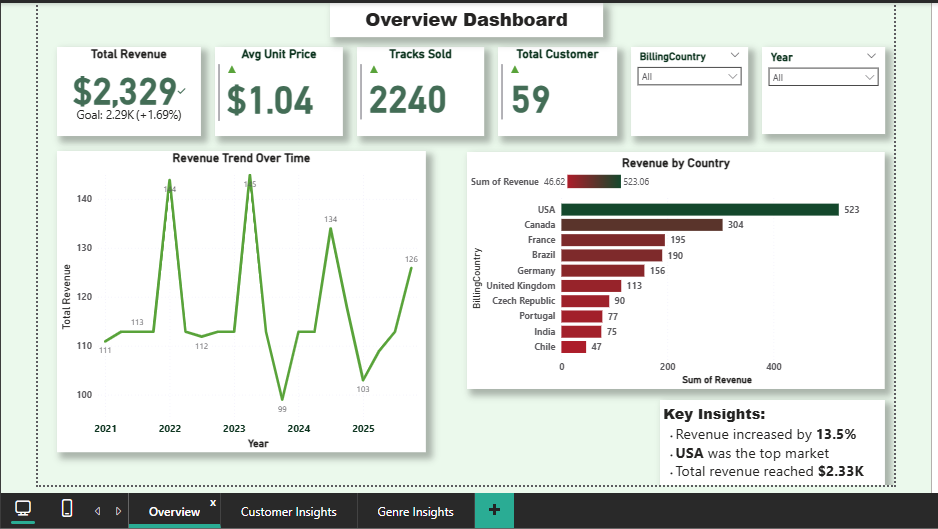

This screenshot's page, from the dashboard's own definition file:
{"tool":"powerbi","page":{"name":"Overview","canvas":[1280,720],"ordinal":0},"visuals":[{"type":"clusteredBarChart","title":"Revenue by Country","fields":{"Category":["RevenueByCountry1.BillingCountry"],"Y":["Sum(RevenueByCountry1.Revenue)"]},"box":[640.8,222.6,624.4,354],"z":0},{"type":"slicer","fields":{"Values":["RevenueByCountry1.BillingCountry"]},"box":[885.8,65.7,174.8,132.9],"z":1000},{"type":"slicer","fields":{"Values":["Invoice.InvoiceDate.Variation.Date Hierarchy.Year"]},"box":[1081.5,65.7,183.7,130],"z":2000},{"type":"kpi","title":"Total Revenue","fields":{"Indicator":["Customer.Total Revenue"],"Goal":["Customer.Previous Revenue"],"TrendLine":["InvoiceLine.Quantity"]},"box":[28.4,65.7,215.1,132.9],"z":3000},{"type":"multiRowCard","title":"Avg Unit Price","fields":{"Values":["Customer.Avg Unit Price","Customer.KPI Indicator"]},"box":[264.4,65.7,191.2,132.9],"z":4000},{"type":"multiRowCard","title":"Tracks Sold","fields":{"Values":["Customer.Tracks Sold","Customer.KPI Indicator"]},"box":[476.5,65.7,189.7,132.9],"z":5000},{"type":"multiRowCard","title":"Total Customer","fields":{"Values":["Customer.Total Customers","Customer.KPI Indicator"]},"box":[687.1,65.7,177.8,132.9],"z":6000},{"type":"lineChart","title":"Revenue Trend Over Time","fields":{"Y":["Customer.Total Revenue"],"Category":["Invoice.InvoiceDate.Variation.Date Hierarchy.Year","Invoice.InvoiceDate.Variation.Date Hierarchy.Quarter"]},"box":[28.4,221.1,551.2,449.6],"z":7000},{"type":"textbox","box":[436.2,0,407.8,50.8],"z":8000},{"type":"textbox","box":[929.1,593,336.1,127],"z":9000}]}

Visuals, with their boxes on the page's 1280x720 design canvas (x1, y1, x2, y2). These are canvas units, not pixel positions in the 938x529 screenshot, which may show the page scaled, cropped or inside an application window:
"Revenue by Country" clusteredBarChart: bbox(641, 223, 1265, 577)
slicer - RevenueByCountry1.BillingCountry: bbox(886, 66, 1061, 199)
slicer - Invoice.InvoiceDate.Variation.Date Hierarchy.Year: bbox(1082, 66, 1265, 196)
"Total Revenue" kpi: bbox(28, 66, 244, 199)
"Avg Unit Price" multiRowCard: bbox(264, 66, 456, 199)
"Tracks Sold" multiRowCard: bbox(476, 66, 666, 199)
"Total Customer" multiRowCard: bbox(687, 66, 865, 199)
"Revenue Trend Over Time" lineChart: bbox(28, 221, 580, 671)
textbox: bbox(436, 0, 844, 51)
textbox: bbox(929, 593, 1265, 720)
